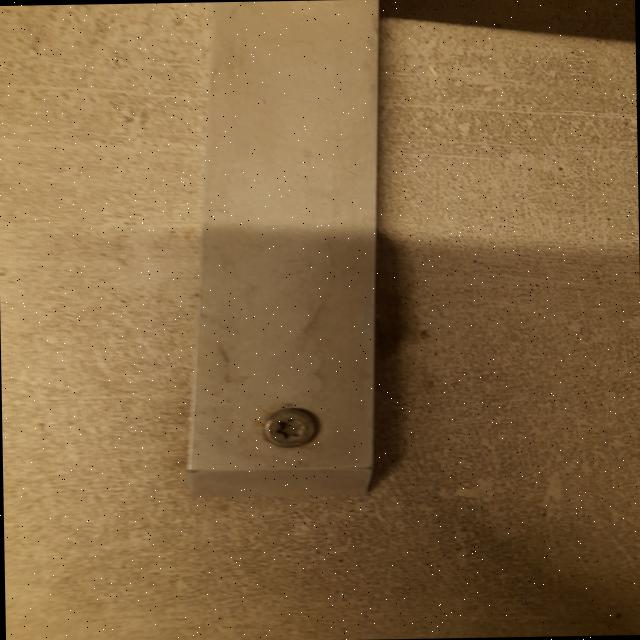Torx: (260, 405, 324, 448)
